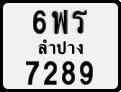letters: (51, 8, 68, 35), (71, 9, 88, 35), (42, 59, 58, 86), (25, 59, 40, 86), (78, 60, 94, 85), (61, 60, 76, 85), (32, 9, 46, 35)
province: (37, 38, 85, 55)
